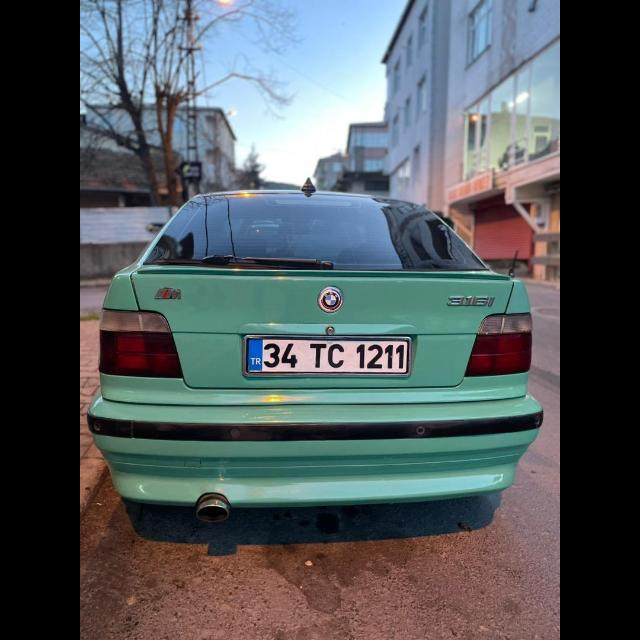Plaka: (247, 340, 409, 372)
